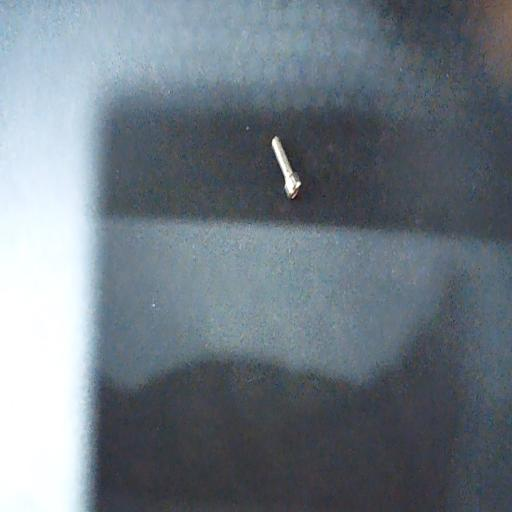screw: (271, 135, 301, 197)
